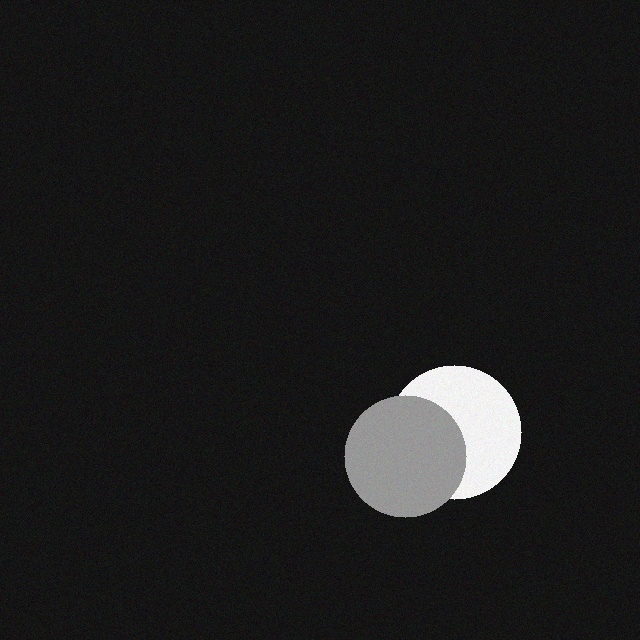circle: (376, 355, 510, 489), (333, 385, 455, 507)
